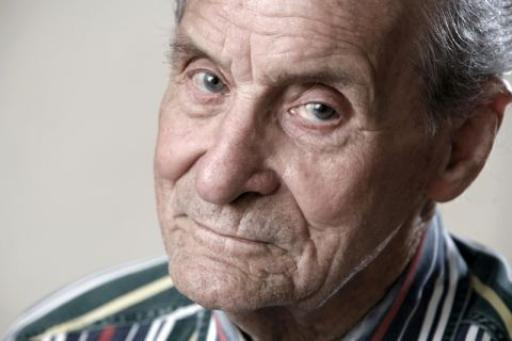left_eye: (288, 102, 342, 127), (178, 210, 198, 228)
left_lip_corner: (266, 235, 298, 256)
right_eye: (185, 69, 231, 98)
